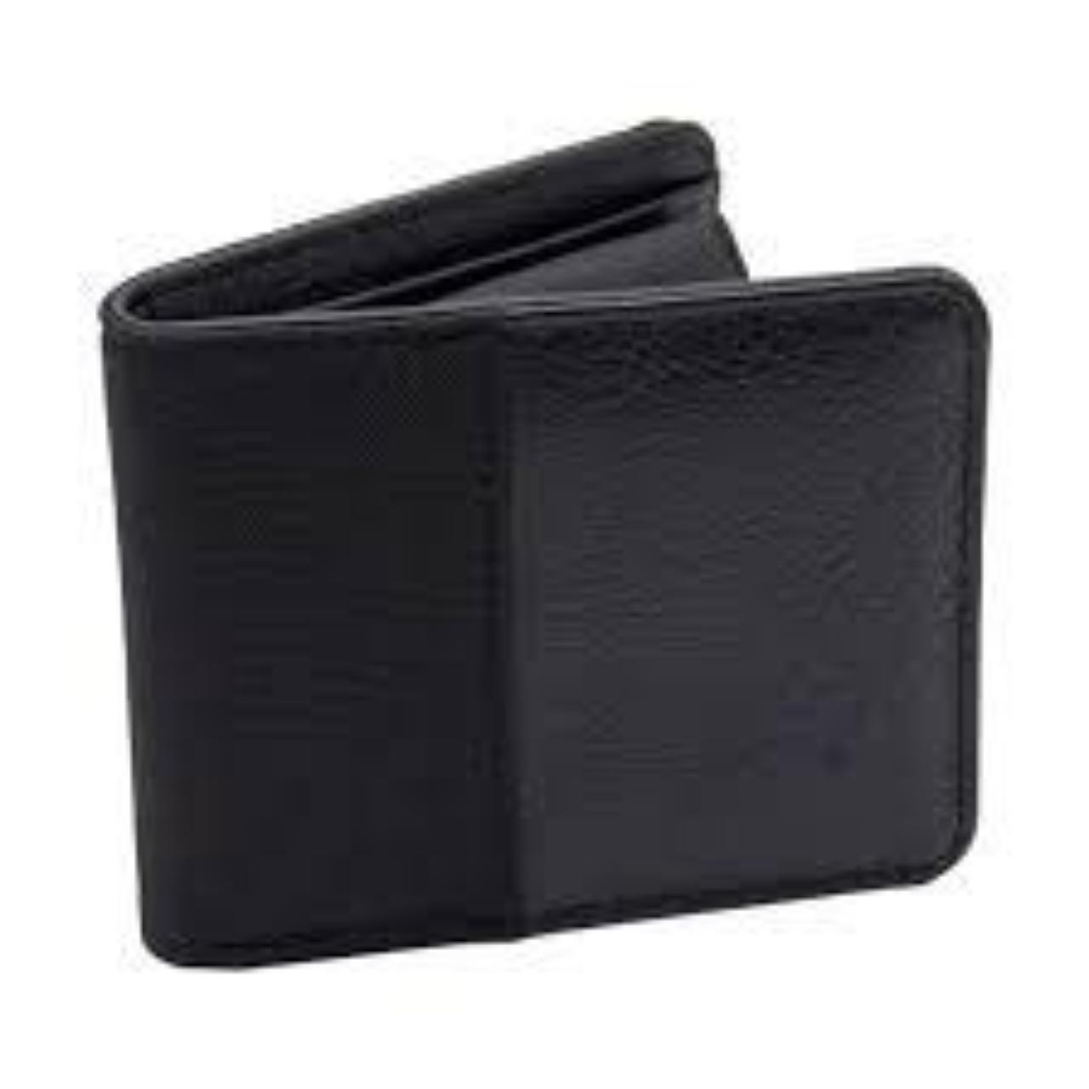wallet: (30, 83, 1075, 1059)
